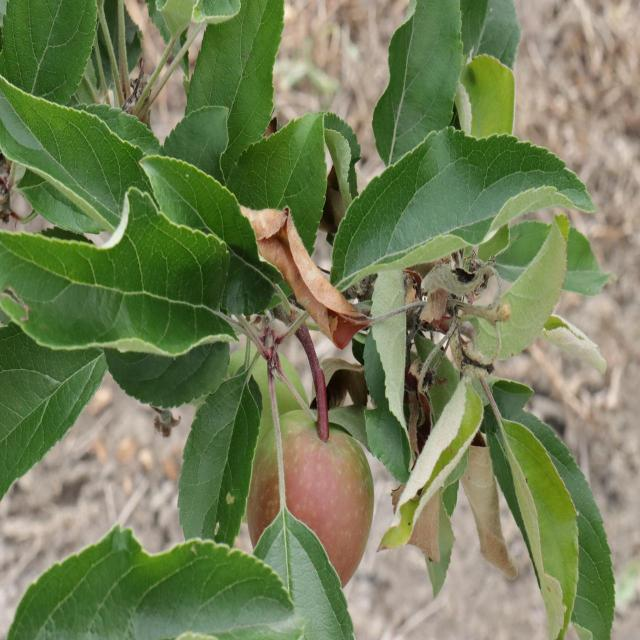-FireBlight-: (240, 204, 366, 339)
